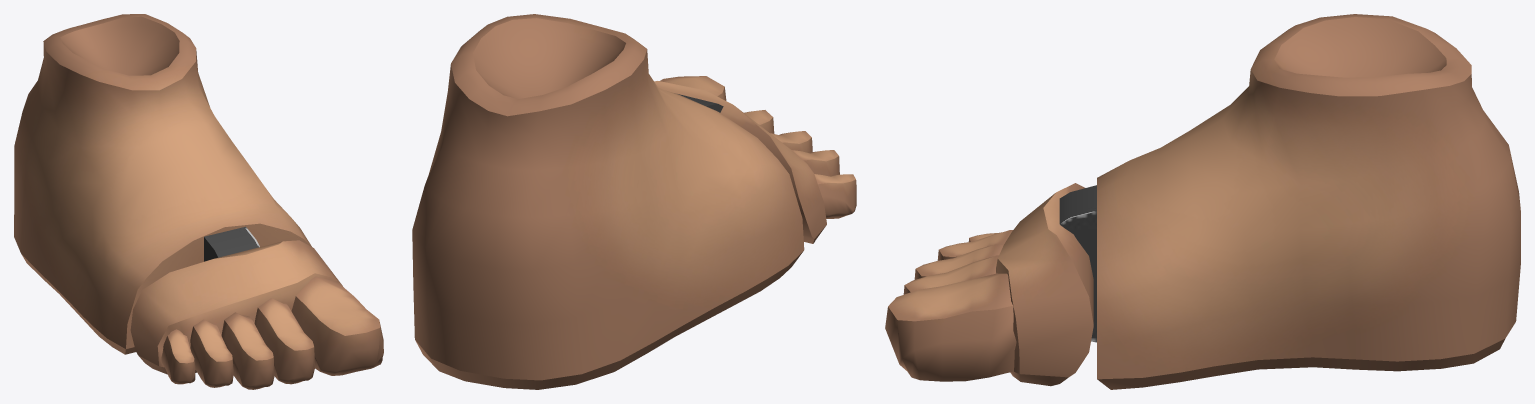
File: footR.fbx
3 renders of one model, left to right at view 1: azimuth 30°, elevation 25°; view 2: azimuth 150°, elevation 25°; view 3: azimuth 270°, elevation 25°, orthographic. The views are drawn at different scales.
Parts seen in each view (by area): view 1: matte_0.005, matte_1.006; view 2: matte_0.005, matte_1.006; view 3: matte_0.005, matte_1.006.
Boxes of the visible parts, x1=… form: matte_0.005: x1=14, y1=14, x2=311, y2=354; matte_1.006: x1=130, y1=240, x2=383, y2=389; matte_0.005: x1=412, y1=14, x2=804, y2=389; matte_1.006: x1=654, y1=76, x2=856, y2=243; matte_0.005: x1=1059, y1=14, x2=1520, y2=389; matte_1.006: x1=885, y1=183, x2=1093, y2=386.
Bounding box in the file's own units: 374 × 802 × 394.
